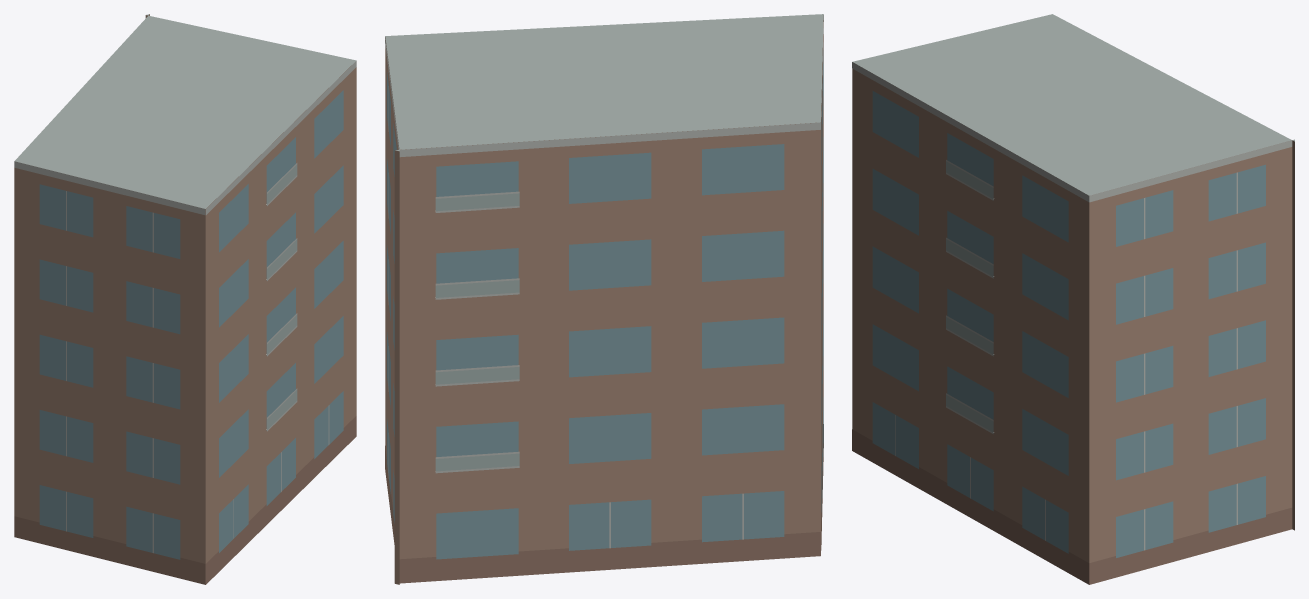
The model's file is survey-upis-32737111.glb.
3 renders of one model, left to right at view 1: azimuth 30°, elevation 25°; view 2: azimuth 150°, elevation 25°; view 3: azimuth 270°, elevation 25°, orthographic. The views are drawn at different scales.
Visible parts, largest first — view 1: survey-upis-32737111.tmp; view 2: survey-upis-32737111.tmp; view 3: survey-upis-32737111.tmp.
Boxes of the visible parts, x1,y1,x2,y2 form: survey-upis-32737111.tmp: (14,14,356,584); survey-upis-32737111.tmp: (385,14,823,584); survey-upis-32737111.tmp: (852,14,1294,584).
Bounding box in the file's own units: 14.34 × 14.3 × 14.75.
